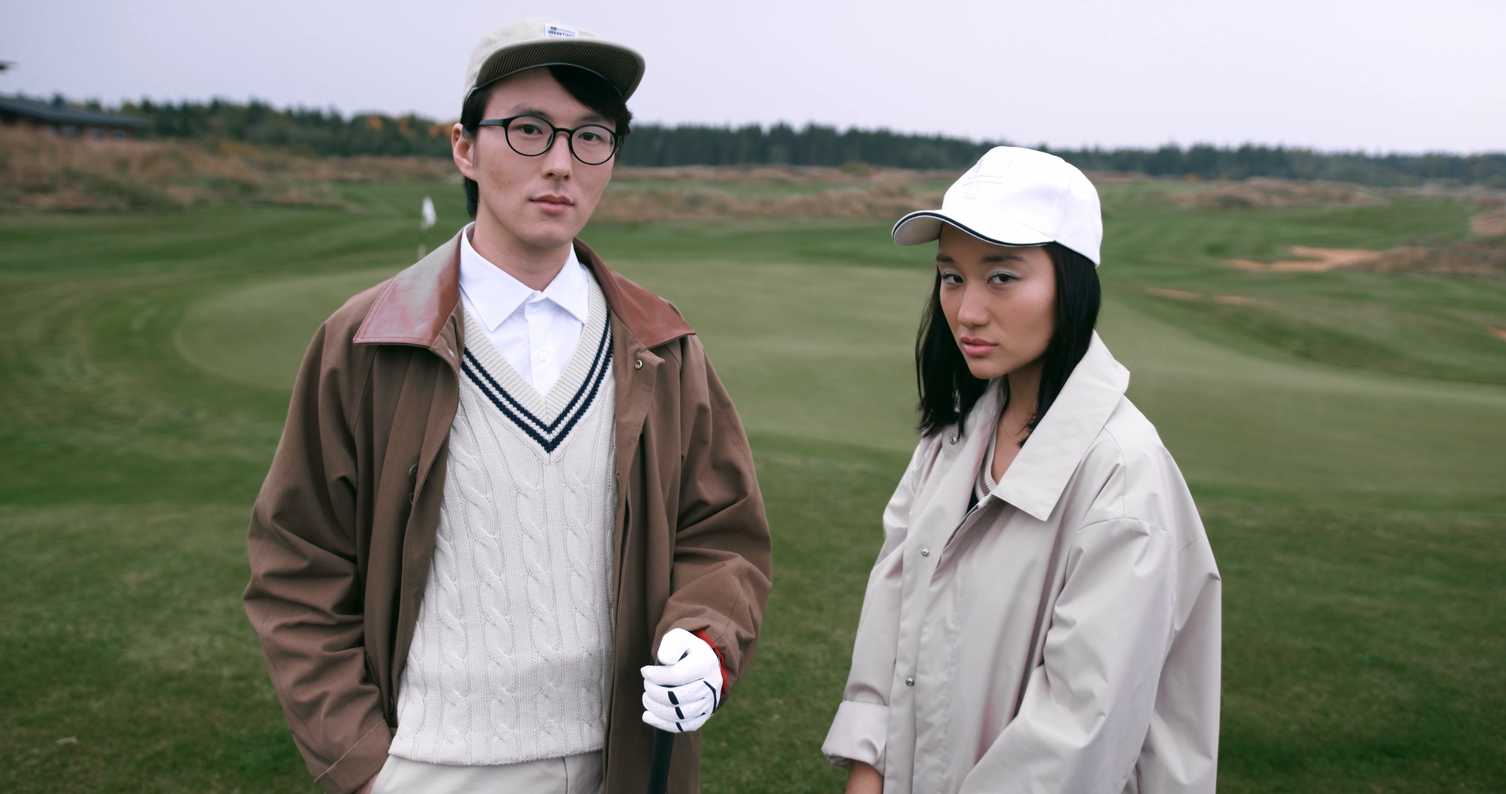gloves: (631, 619, 729, 765)
